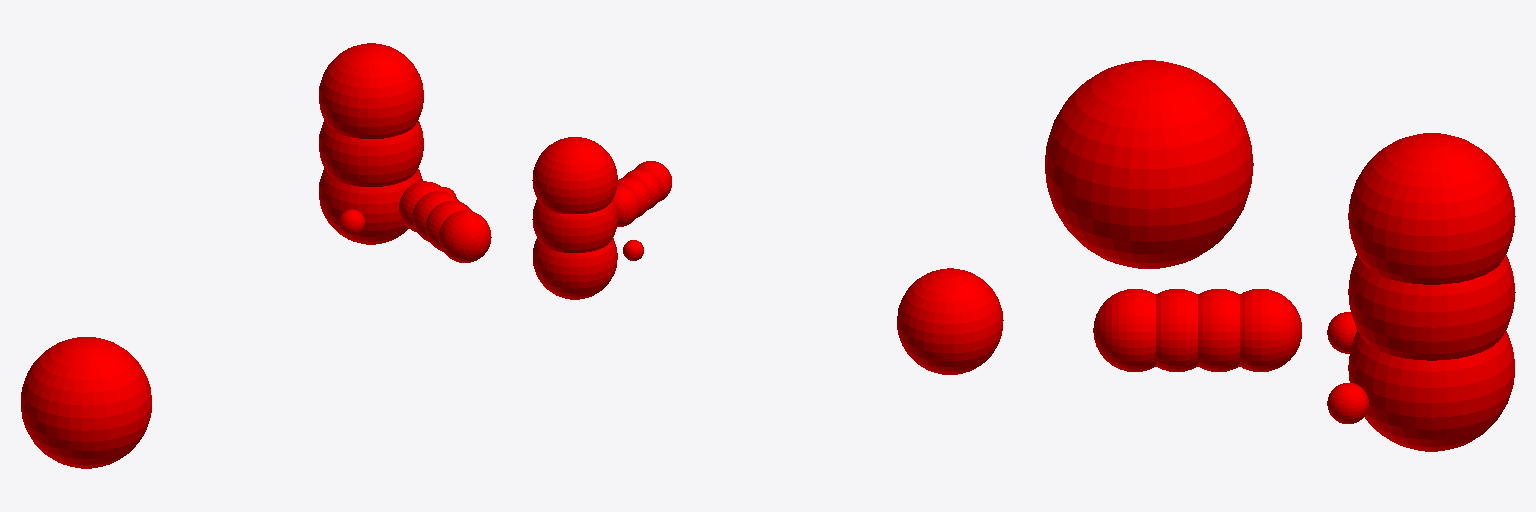
robot.urdf — robot:
<?xml version="1.0" ?>
<robot name="robot">
  <joint name="tray_joint" type="fixed">
    <origin rpy="-1.5707964 -1.5707963 0. " xyz="-0. 0.05 0.1049999"/>
    <parent link="wrist_3_link"/>
    <child link="tray"/>
  </joint>
  <joint name="elbow_joint" type="revolute">
    <origin rpy="0. 0. 0." xyz="-0.425 0. 0. "/>
    <parent link="upper_arm_link"/>
    <child link="forearm_link"/>
    <axis xyz="0. 0. 1."/>
    <limit effort="150." lower="-3.1415927" upper="3.1415927" velocity="3.1415927"/>
  </joint>
  <joint name="root_joint" type="fixed">
    <origin rpy="0. 0. 0." xyz="0. 0. 0."/>
    <parent link="ur5e"/>
    <child link="base_link"/>
  </joint>
  <joint name="shoulder_lift_joint" type="revolute">
    <origin rpy="1.5707964 0. 0. " xyz="0. 0. 0."/>
    <parent link="shoulder_link"/>
    <child link="upper_arm_link"/>
    <axis xyz="0. 0. 1."/>
    <limit effort="150." lower="-6.2831853" upper="6.2831853" velocity="3.1415927"/>
  </joint>
  <joint name="shoulder_pan_joint" type="revolute">
    <origin rpy="0. 0. -3.1415925" xyz="0. 0. 0.1625"/>
    <parent link="base_link"/>
    <child link="shoulder_link"/>
    <axis xyz="0. 0. 1."/>
    <limit effort="150." lower="-6.2831853" upper="6.2831853" velocity="3.1415927"/>
  </joint>
  <joint name="wrist_1_joint" type="revolute">
    <origin rpy="0. 0. 0." xyz="-0.3922 0. 0.1333"/>
    <parent link="forearm_link"/>
    <child link="wrist_1_link"/>
    <axis xyz="0. 0. 1."/>
    <limit effort="28." lower="-6.2831853" upper="6.2831853" velocity="3.1415927"/>
  </joint>
  <joint name="wrist_2_joint" type="revolute">
    <origin rpy="1.5707964 0. 0. " xyz="-0. -0.0997 -0. "/>
    <parent link="wrist_1_link"/>
    <child link="wrist_2_link"/>
    <axis xyz="0. 0. 1."/>
    <limit effort="28." lower="-6.2831853" upper="6.2831853" velocity="3.1415927"/>
  </joint>
  <joint name="wrist_3_joint" type="revolute">
    <origin rpy="-1.5707964 -0.0000001 0.0000001" xyz="0. 0.0996 -0. "/>
    <parent link="wrist_2_link"/>
    <child link="wrist_3_link"/>
    <axis xyz="0. 0. 1."/>
    <limit effort="28." lower="-6.2831853" upper="6.2831853" velocity="3.1415927"/>
  </joint>
  <link name="base_link">
    <inertial>
      <origin rpy="0. 0. 0." xyz="0. 0. 0."/>
      <mass value="4."/>
      <inertia ixx="0.0044333" ixy="0." ixz="0." iyy="0.0044333" iyz="0." izz="0.0072"/>
    </inertial>
    <visual>
      <origin rpy="1.5707872 0. 0. " xyz="0. 0. 0."/>
      <geometry>
        <mesh filename="file:///catkin_ws/src/upright/upright_assets/ur5e/meshes/base_link_visuals_base_mesh.obj" scale="1. 1. 1."/>
      </geometry>
    </visual>
    <collision>
      <origin rpy="0. 0. 0." xyz="0. 0. 0."/>
      <geometry>
        <mesh filename="file:///catkin_ws/src/upright/upright_assets/ur5e/meshes/base_link_collisions_base_mesh.obj" scale="1. 1. 1."/>
      </geometry>
    </collision>
  </link>
  <link name="forearm_link">
    <inertial>
      <origin rpy="0. 0. 0." xyz="-0.1961 0. 0.007 "/>
      <mass value="2.2750001"/>
      <inertia ixx="0.0312094" ixy="0." ixz="0." iyy="0.0312094" iyz="0." izz="0.004095"/>
    </inertial>
    <visual>
      <origin rpy="3.1415837 0. -1.5707964" xyz="0. 0. 0.007"/>
      <geometry>
        <mesh filename="file:///catkin_ws/src/upright/upright_assets/ur5e/meshes/forearm_link_visuals_forearm_mesh.obj" scale="1. 1. 1."/>
      </geometry>
    </visual>
    <collision>
      <origin rpy="1.5707964 0. -1.5707964" xyz="0. 0. 0.007"/>
      <geometry>
        <mesh filename="file:///catkin_ws/src/upright/upright_assets/ur5e/meshes/forearm_link_collisions_forearm_mesh.obj" scale="1. 1. 1."/>
      </geometry>
    </collision>
  </link>
  <link name="shoulder_link">
    <inertial>
      <origin rpy="0. 0. 0." xyz="0. 0. 0."/>
      <mass value="3.7"/>
      <inertia ixx="0.0102675" ixy="0." ixz="0." iyy="0.0102675" iyz="0." izz="0.00666"/>
    </inertial>
    <visual>
      <origin rpy="1.5707872 0. -3.1415925" xyz="0. 0. 0."/>
      <geometry>
        <mesh filename="file:///catkin_ws/src/upright/upright_assets/ur5e/meshes/shoulder_link_visuals_shoulder_mesh.obj" scale="1. 1. 1."/>
      </geometry>
    </visual>
    <collision>
      <origin rpy="0. 0. -3.1415925" xyz="0. 0. 0."/>
      <geometry>
        <mesh filename="file:///catkin_ws/src/upright/upright_assets/ur5e/meshes/shoulder_link_collisions_shoulder_mesh.obj" scale="1. 1. 1."/>
      </geometry>
    </collision>
  </link>
  <link name="tray">
    <inertial>
      <origin rpy="0. 0. 0." xyz="-0.0332617 -0.0000095 -0.0247041"/>
      <mass value="0.35"/>
      <inertia ixx="0.0009002" ixy="0.0000004" ixz="0.0001363" iyy="0.0009958" iyz="0.000002" izz="0.0016743"/>
    </inertial>
    <visual>
      <origin rpy="0. -0. 3.1415927" xyz="0. 0. 0."/>
      <geometry>
        <mesh filename="file:///catkin_ws/src/upright/upright_assets/ur5e/meshes/tray_visuals_Tray_mesh.obj" scale="1. 1. 1."/>
      </geometry>
    </visual>
    <collision>
      <origin rpy="0. 0. -3.1415927" xyz="0. 0. 0."/>
      <geometry>
        <mesh filename="file:///catkin_ws/src/upright/upright_assets/ur5e/meshes/tray_collisions_Tray_mesh.obj" scale="1. 1. 1."/>
      </geometry>
    </collision>
  </link>
  <link name="upper_arm_link">
    <inertial>
      <origin rpy="0. 0. 0." xyz="-0.2125 0. 0.138 "/>
      <mass value="8.3929996"/>
      <inertia ixx="0.1338858" ixy="0." ixz="0." iyy="0.1338858" iyz="0." izz="0.0151074"/>
    </inertial>
    <visual>
      <origin rpy="3.1415837 0. -1.5707964" xyz="0. 0. 0.138"/>
      <geometry>
        <mesh filename="file:///catkin_ws/src/upright/upright_assets/ur5e/meshes/upper_arm_link_visuals_upperarm_mesh.obj" scale="1. 1. 1."/>
      </geometry>
    </visual>
    <collision>
      <origin rpy="1.5707964 0. -1.5707964" xyz="0. 0. 0.138"/>
      <geometry>
        <mesh filename="file:///catkin_ws/src/upright/upright_assets/ur5e/meshes/upper_arm_link_collisions_upperarm_mesh.obj" scale="1. 1. 1."/>
      </geometry>
    </collision>
  </link>
  <link name="ur5e"/>
  <link name="wrist_1_link">
    <inertial>
      <origin rpy="0. 0. 0." xyz="0. 0. 0."/>
      <mass value="1.219"/>
      <inertia ixx="0.0025599" ixy="0." ixz="0." iyy="0.0025599" iyz="0." izz="0.0021942"/>
    </inertial>
    <visual>
      <origin rpy="3.1415837 0. 0. " xyz="-0. 0. -0.127"/>
      <geometry>
        <mesh filename="file:///catkin_ws/src/upright/upright_assets/ur5e/meshes/wrist_1_link_visuals_wrist1_mesh.obj" scale="1. 1. 1."/>
      </geometry>
    </visual>
    <collision>
      <origin rpy="1.5707964 0. 0. " xyz="-0. 0. -0.127"/>
      <geometry>
        <mesh filename="file:///catkin_ws/src/upright/upright_assets/ur5e/meshes/wrist_1_link_collisions_wrist1_mesh.obj" scale="1. 1. 1."/>
      </geometry>
    </collision>
  </link>
  <link name="wrist_2_link">
    <inertial>
      <origin rpy="0. 0. 0." xyz="0. 0. 0."/>
      <mass value="1.219"/>
      <inertia ixx="0.0025599" ixy="0." ixz="0." iyy="0.0025599" iyz="0." izz="0.0021942"/>
    </inertial>
    <visual>
      <origin rpy="1.5707872 0. 0. " xyz="0. 0. -0.0997"/>
      <geometry>
        <mesh filename="file:///catkin_ws/src/upright/upright_assets/ur5e/meshes/wrist_2_link_visuals_wrist2_mesh.obj" scale="1. 1. 1."/>
      </geometry>
    </visual>
    <collision>
      <origin rpy="0. 0. 0." xyz="0. 0. -0.0997"/>
      <geometry>
        <mesh filename="file:///catkin_ws/src/upright/upright_assets/ur5e/meshes/wrist_2_link_collisions_wrist2_mesh.obj" scale="1. 1. 1."/>
      </geometry>
    </collision>
  </link>
  <link name="wrist_3_link">
    <inertial>
      <origin rpy="0. 0. 0." xyz="0. 0. -0.0229"/>
      <mass value="0.1879"/>
      <inertia ixx="0.0000989" ixy="0." ixz="0." iyy="0.0000989" iyz="0." izz="0.0001321"/>
    </inertial>
    <visual>
      <origin rpy="3.1415837 0. 0. " xyz="-0. -0. -0.0989"/>
      <geometry>
        <mesh filename="file:///catkin_ws/src/upright/upright_assets/ur5e/meshes/wrist_3_link_visuals_wrist3_mesh.obj" scale="1. 1. 1."/>
      </geometry>
    </visual>
    <collision>
      <origin rpy="1.5707964 0. 0. " xyz="-0. -0. -0.0989"/>
      <geometry>
        <mesh filename="file:///catkin_ws/src/upright/upright_assets/ur5e/meshes/wrist_3_link_collisions_wrist3_mesh.obj" scale="1. 1. 1."/>
      </geometry>
    </collision>
  </link>
  <!-- NOTE: Use zero transparency for the photo shoot -->
  <!-- TODO: have this as a config option -->
  <material name="obstacle_material">
    <color rgba="1.0 0.0 0.0 0.25"/>
    <!-- <color rgba="1.0 0.0 0.0 1.0"/> -->
  </material>
  <link name="tray_collision_link_1">
    <collision>
      <origin rpy="0 0 0" xyz="0 0 0"/>
      <geometry>
        <!-- <sphere radius="0.21"/> -->
        <sphere radius="0.1"/>
      </geometry>
    </collision>
    <visual>
      <origin rpy="0 0 0" xyz="0 0 0"/>
      <geometry>
        <!-- <sphere radius="0.21"/> -->
        <sphere radius="0.1"/>
      </geometry>
      <material name="obstacle_material"/>
    </visual>
  </link>
  <joint name="balanced_object_collision_joint_1" type="fixed">
    <origin rpy="0 0 0" xyz="0 0 0.0"/>
    <!-- <origin rpy="0 0 0" xyz="0 0 0"/> -->
    <parent link="tray"/>
    <child link="tray_collision_link_1"/>
  </joint>
  <link name="tray_collision_link_2">
    <collision>
      <origin rpy="0 0 0" xyz="0 0 0.1"/>
      <geometry>
        <!-- <sphere radius="0.21"/> -->
        <sphere radius="0.1"/>
      </geometry>
    </collision>
    <visual>
      <origin rpy="0 0 0" xyz="0 0 0.1"/>
      <geometry>
        <!-- <sphere radius="0.21"/> -->
        <sphere radius="0.1"/>
      </geometry>
      <material name="obstacle_material"/>
    </visual>
  </link>
  <joint name="balanced_object_collision_joint_2" type="fixed">
    <origin rpy="0 0 0" xyz="0 0 0.0"/>
    <!-- <origin rpy="0 0 0" xyz="0 0 0"/> -->
    <parent link="tray"/>
    <child link="tray_collision_link_2"/>
  </joint>
  <link name="tray_collision_link_3">
    <collision>
      <origin rpy="0 0 0" xyz="0 0 0.2"/>
      <geometry>
        <!-- <sphere radius="0.21"/> -->
        <sphere radius="0.1"/>
      </geometry>
    </collision>
    <visual>
      <origin rpy="0 0 0" xyz="0 0 0.2"/>
      <geometry>
        <!-- <sphere radius="0.21"/> -->
        <sphere radius="0.1"/>
      </geometry>
      <material name="obstacle_material"/>
    </visual>
  </link>
  <joint name="balanced_object_collision_joint_3" type="fixed">
    <origin rpy="0 0 0" xyz="0 0 0.0"/>
    <!-- <origin rpy="0 0 0" xyz="0 0 0"/> -->
    <parent link="tray"/>
    <child link="tray_collision_link_3"/>
  </joint>
  <link name="tray_collision_link_4">
    <collision>
      <origin rpy="0 0 0" xyz="-0.1 0.1 0.0"/>
      <geometry>
        <!-- <sphere radius="0.21"/> -->
        <sphere radius="0.025"/>
      </geometry>
    </collision>
    <visual>
      <origin rpy="0 0 0" xyz="-0.1 0.1 0.0"/>
      <geometry>
        <!-- <sphere radius="0.21"/> -->
        <sphere radius="0.025"/>
      </geometry>
      <material name="obstacle_material"/>
    </visual>
  </link>
  <joint name="balanced_object_collision_joint_4" type="fixed">
    <origin rpy="0 0 0" xyz="0 0 0.0"/>
    <!-- <origin rpy="0 0 0" xyz="0 0 0"/> -->
    <parent link="tray"/>
    <child link="tray_collision_link_4"/>
  </joint>
  <link name="tray_collision_link_5">
    <collision>
      <origin rpy="0 0 0" xyz="-0.1 -0.1 0.0"/>
      <geometry>
        <!-- <sphere radius="0.21"/> -->
        <sphere radius="0.025"/>
      </geometry>
    </collision>
    <visual>
      <origin rpy="0 0 0" xyz="-0.1 -0.1 0.0"/>
      <geometry>
        <!-- <sphere radius="0.21"/> -->
        <sphere radius="0.025"/>
      </geometry>
      <material name="obstacle_material"/>
    </visual>
  </link>
  <joint name="balanced_object_collision_joint_5" type="fixed">
    <origin rpy="0 0 0" xyz="0 0 0.0"/>
    <!-- <origin rpy="0 0 0" xyz="0 0 0"/> -->
    <parent link="tray"/>
    <child link="tray_collision_link_5"/>
  </joint>
  <link name="base_collision_link">
    <collision>
      <origin rpy="0 0 0" xyz="0 0 0"/>
      <geometry>
        <!-- <box size="1.0 0.8 0.3"/> -->
        <sphere radius="0.125"/>
      </geometry>
    </collision>
    <visual>
      <origin rpy="0 0 0" xyz="0 0 0"/>
      <geometry>
        <!-- <box size="1.0 0.8 0.3"/> -->
        <sphere radius="0.125"/>
      </geometry>
      <material name="obstacle_material"/>
    </visual>
  </link>
  <!-- TODO it would probably be better to make this relative to the chassis link, so that it includes the calibrated base transform, but this would require some testing as well -->
  <joint name="base_collision_joint" type="fixed">
    <!-- <origin rpy="0 0 0" xyz="0 0 0.16"/> -->
    <origin rpy="0 0 0" xyz="0 0 0"/>
    <parent link="base_link"/>
    <child link="base_collision_link"/>
  </joint>
  <link name="wrist1_collision_link_1">
    <collision>
      <origin rpy="0 0 0" xyz="0 0 0"/>
      <geometry>
        <sphere radius="0.05"/>
      </geometry>
    </collision>
    <visual>
      <origin rpy="0 0 0" xyz="0 0 0"/>
      <geometry>
        <sphere radius="0.05"/>
      </geometry>
      <material name="obstacle_material"/>
    </visual>
  </link>
  <joint name="wrist1_collision_joint_1" type="fixed">
    <origin rpy="0 0 0" xyz="0 0 0"/>
    <parent link="wrist_1_link"/>
    <child link="wrist1_collision_link_1"/>
  </joint>
  <link name="wrist1_collision_link_2">
    <collision>
      <origin rpy="0 0 0" xyz="0 0 -0.05"/>
      <geometry>
        <sphere radius="0.05"/>
      </geometry>
    </collision>
    <visual>
      <origin rpy="0 0 0" xyz="0 0 -0.05"/>
      <geometry>
        <sphere radius="0.05"/>
      </geometry>
      <material name="obstacle_material"/>
    </visual>
  </link>
  <joint name="wrist1_collision_joint_2" type="fixed">
    <origin rpy="0 0 0" xyz="0 0 0"/>
    <parent link="wrist_1_link"/>
    <child link="wrist1_collision_link_2"/>
  </joint>
  <link name="wrist1_collision_link_3">
    <collision>
      <origin rpy="0 0 0" xyz="0 0 -0.1"/>
      <geometry>
        <sphere radius="0.05"/>
      </geometry>
    </collision>
    <visual>
      <origin rpy="0 0 0" xyz="0 0 -0.1"/>
      <geometry>
        <sphere radius="0.05"/>
      </geometry>
      <material name="obstacle_material"/>
    </visual>
  </link>
  <joint name="wrist1_collision_joint_3" type="fixed">
    <origin rpy="0 0 0" xyz="0 0 0"/>
    <parent link="wrist_1_link"/>
    <child link="wrist1_collision_link_3"/>
  </joint>
  <link name="wrist1_collision_link_4">
    <collision>
      <origin rpy="0 0 0" xyz="0 0 -0.15"/>
      <geometry>
        <sphere radius="0.05"/>
      </geometry>
    </collision>
    <visual>
      <origin rpy="0 0 0" xyz="0 0 -0.15"/>
      <geometry>
        <sphere radius="0.05"/>
      </geometry>
      <material name="obstacle_material"/>
    </visual>
  </link>
  <joint name="wrist1_collision_joint_4" type="fixed">
    <origin rpy="0 0 0" xyz="0 0 0"/>
    <parent link="wrist_1_link"/>
    <child link="wrist1_collision_link_4"/>
  </joint>
</robot>

--- Render facts (derived) ---
Views: 3 orthographic renders of the robot side by side, from view 1: azimuth 30°, elevation 25°; view 2: azimuth 150°, elevation 25°; view 3: azimuth 270°, elevation 25°.
Model robot with 19 links and 18 joints (6 revolute, 12 fixed), rooted at ur5e, posed all joints at 0.
Links seen in each view (by area): view 1: base_collision_link, tray_collision_link_3, tray_collision_link_2, tray_collision_link_1, wrist1_collision_link_4, wrist1_collision_link_1, wrist1_collision_link_2, wrist1_collision_link_3, tray_collision_link_4; view 2: base_collision_link, tray_collision_link_3, tray_collision_link_1, tray_collision_link_2, wrist1_collision_link_1, wrist1_collision_link_4, wrist1_collision_link_3, wrist1_collision_link_2; view 3: base_collision_link, tray_collision_link_3, tray_collision_link_1, tray_collision_link_2, wrist1_collision_link_4, wrist1_collision_link_1, wrist1_collision_link_2, wrist1_collision_link_3, tray_collision_link_5, tray_collision_link_4.
Boxes of the visible links, x1,y1,x2,y2 form: base_collision_link: (21,337,151,468); tray_collision_link_3: (319,43,423,138); tray_collision_link_2: (319,120,423,186); tray_collision_link_1: (319,168,422,244); wrist1_collision_link_4: (439,210,491,262); wrist1_collision_link_1: (399,181,445,231); wrist1_collision_link_2: (412,191,459,241); wrist1_collision_link_3: (426,201,471,251); tray_collision_link_4: (339,209,364,235); base_collision_link: (897,268,1003,374); tray_collision_link_3: (532,137,617,213); tray_collision_link_1: (533,238,617,299); tray_collision_link_2: (532,200,617,252); wrist1_collision_link_1: (613,184,639,226); wrist1_collision_link_4: (634,161,671,201); wrist1_collision_link_3: (623,169,661,209); wrist1_collision_link_2: (617,177,650,217); base_collision_link: (1045,60,1253,268); tray_collision_link_3: (1348,133,1515,284); tray_collision_link_1: (1348,330,1514,451); tray_collision_link_2: (1348,254,1515,360); wrist1_collision_link_4: (1093,289,1155,371); wrist1_collision_link_1: (1240,289,1301,371); wrist1_collision_link_2: (1198,289,1239,371); wrist1_collision_link_3: (1156,289,1197,371); tray_collision_link_5: (1327,383,1368,423); tray_collision_link_4: (1327,312,1356,353).
Size in the robot's own frame: 1.07 by 0.5629 by 0.5378 metres.
Geometry: only primitive shapes (box / cylinder / sphere) drawn; not drawn: 8 mesh visuals (reference in a form the renderer does not follow).